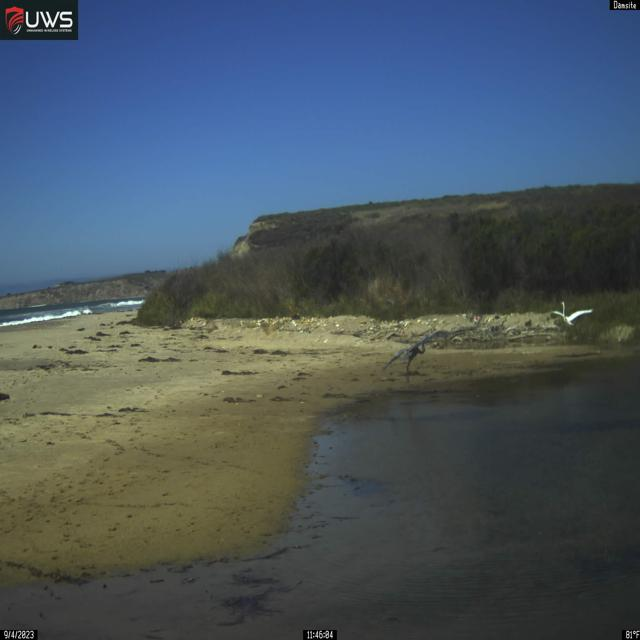bird: (559, 300, 594, 327)
